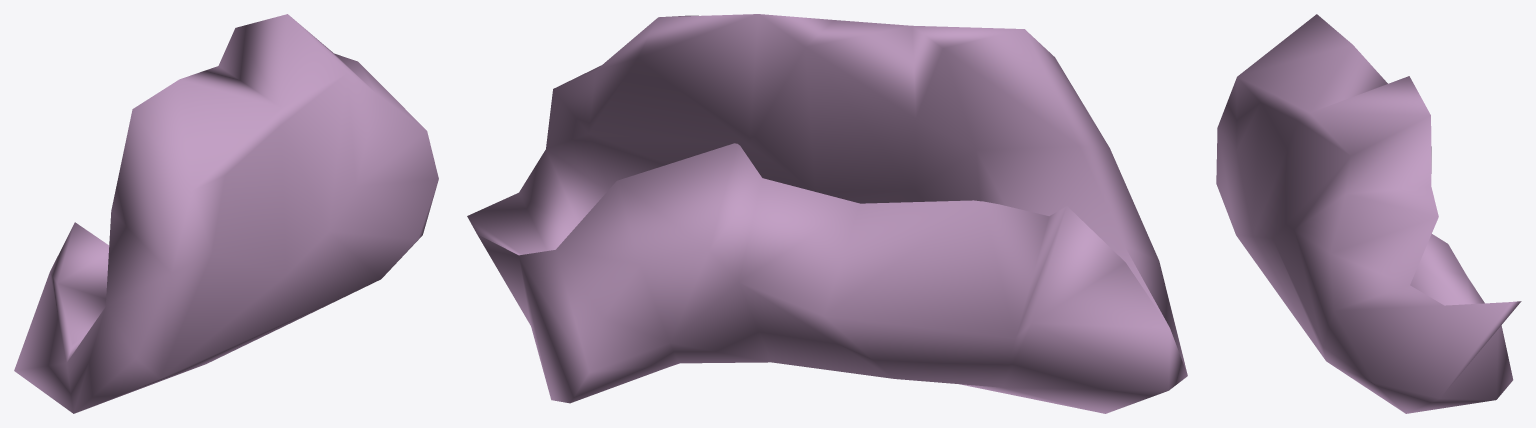
3 renders of one model, left to right at view 1: azimuth 30°, elevation 25°; view 2: azimuth 150°, elevation 25°; view 3: azimuth 270°, elevation 25°, orthographic. The views are drawn at different scales.
Visible parts, largest first — view 1: 左侧外侧沟前水平支; view 2: 左侧外侧沟前水平支; view 3: 左侧外侧沟前水平支.
Part boxes in pixels (x1,y1,x2,y2): 左侧外侧沟前水平支: (14,14,438,413); 左侧外侧沟前水平支: (467,14,1187,413); 左侧外侧沟前水平支: (1216,14,1521,413).
Size of the model in its own units: 0.0261 by 0.0166 by 0.0165.
